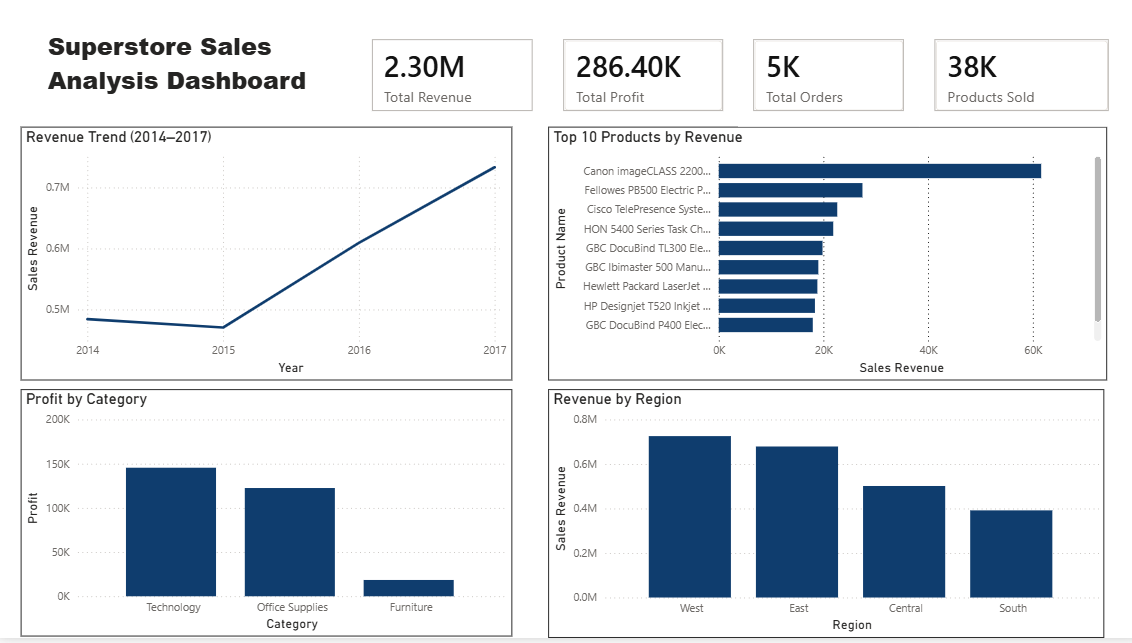

The page's visual inventory and layout, read from the dashboard file:
{"tool":"powerbi","page":{"name":"Page 1","canvas":[1280,720],"ordinal":0},"visuals":[{"type":"cardVisual","title":"Total Revenue","fields":{"Data":["Sum(Sample - Superstore.Sales)"]},"box":[402,34.9,213.6,114.5],"z":0},{"type":"cardVisual","fields":{"Data":["Sum(Sample - Superstore.Profit)"]},"box":[615.6,34.9,212.2,114.5],"z":1000},{"type":"lineChart","title":"Revenue Trend (2014–2017)","fields":{"Y":["Sum(Sample - Superstore.Sales)"],"Category":["Sample - Superstore.Year"]},"box":[26.5,149.4,548.6,283.4],"z":2000},{"type":"clusteredBarChart","title":"Top 10 Products by Revenue","fields":{"Y":["Sum(Sample - Superstore.Sales)"],"Category":["Sample - Superstore.Product Name"]},"box":[615.6,149.4,623.9,283.4],"z":3000},{"type":"clusteredColumnChart","title":"Profit by Category","fields":{"Category":["Sample - Superstore.Category"],"Y":["Sum(Sample - Superstore.Profit)"]},"box":[26.5,442.5,548.6,276.4],"z":4000},{"type":"clusteredColumnChart","title":"Revenue by Region","fields":{"Category":["Sample - Superstore.Region"],"Y":["Sum(Sample - Superstore.Sales)"]},"box":[615.6,442.5,621.2,277.8],"z":5000},{"type":"cardVisual","fields":{"Data":["Sample - Superstore.Total Orders"]},"box":[827.7,34.9,202.4,114.5],"z":6000},{"type":"cardVisual","fields":{"Data":["Sample - Superstore.Products Sold"]},"box":[1030.1,34.9,228.9,114.5],"z":7000},{"type":"textbox","box":[51.6,34.9,318.3,100.5],"z":7001}]}

Visuals, with their boxes in screenshot pixels (x1, y1, x2, y2), scaled from the page's 1280x720 canvas onto the 1132x643 screenshot:
"Total Revenue" cardVisual: <bbox>356, 31, 544, 133</bbox>
cardVisual - Sum(Sample - Superstore.Profit): <bbox>544, 31, 732, 133</bbox>
"Revenue Trend (2014–2017)" lineChart: <bbox>23, 133, 509, 387</bbox>
"Top 10 Products by Revenue" clusteredBarChart: <bbox>544, 133, 1096, 387</bbox>
"Profit by Category" clusteredColumnChart: <bbox>23, 395, 509, 642</bbox>
"Revenue by Region" clusteredColumnChart: <bbox>544, 395, 1094, 642</bbox>
cardVisual - Sample - Superstore.Total Orders: <bbox>732, 31, 911, 133</bbox>
cardVisual - Sample - Superstore.Products Sold: <bbox>911, 31, 1113, 133</bbox>
textbox: <bbox>46, 31, 327, 121</bbox>
